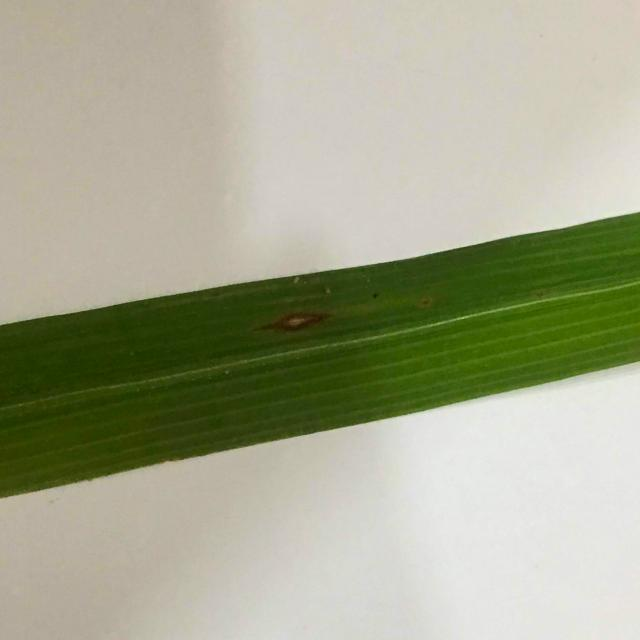Blast: (270, 312, 322, 332)
